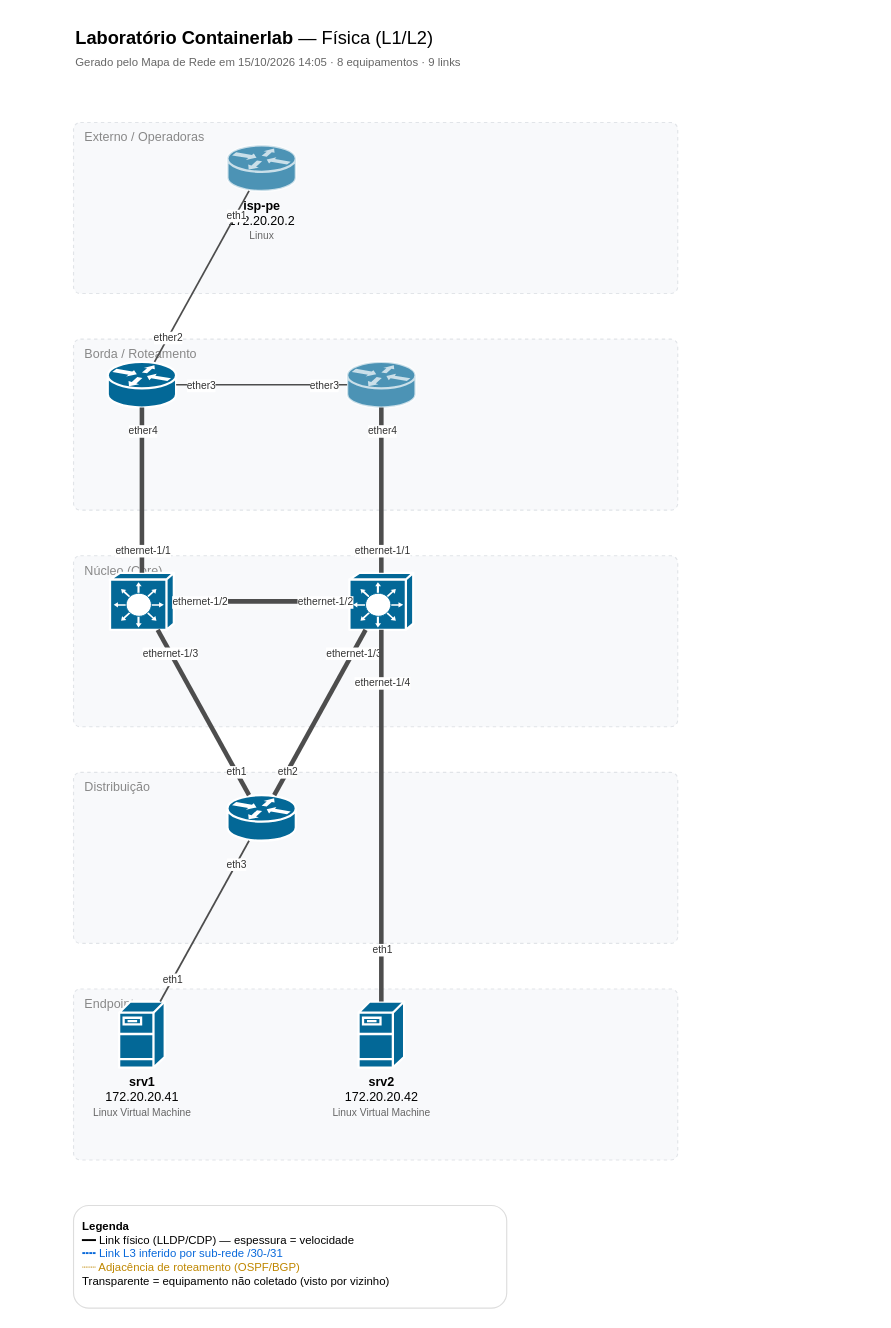
Image size: 891x1328. Some labels were removed from this diagram. The centre of each missing label's shape, as x and y in pixels:
"core-srl1 172.20.20.21 Nokia 7220 IXR-D2L" goes at [141,600].
"core-srl2 172.20.20.22 Nokia 7220 IXR-D2L" goes at [381,600].
"dist-frr1 172.20.20.31 Linux Virtual Machine" goes at [261,817].
"edge-mk1 172.20.20.11 MikroTik CHR QEMU Standard PC (i440FX + PIIX, 19" goes at [141,384].
"edge-mk2 10.10.2.1 MikroTik MikroTik RouterOS 7.16.2 (stable) 2024-" goes at [380,384].
